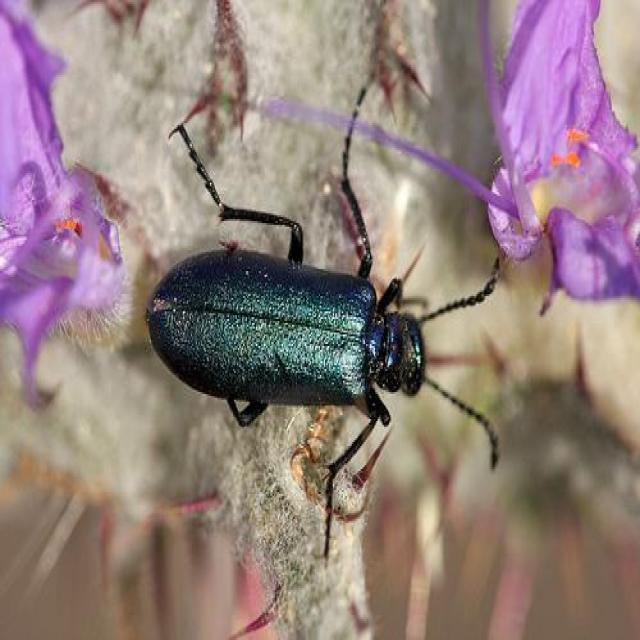BlisterBeetle-Adult-: (134, 109, 506, 526)
